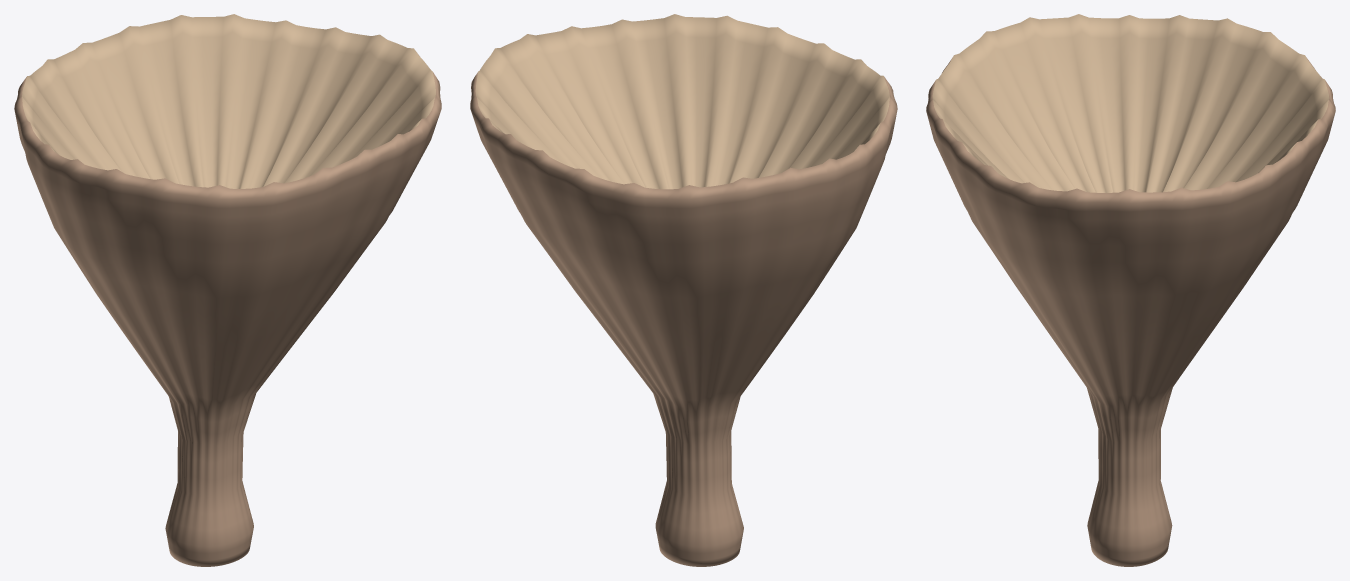
File: montlivaltia.glb
3 renders of one model, left to right at view 1: azimuth 30°, elevation 25°; view 2: azimuth 150°, elevation 25°; view 3: azimuth 270°, elevation 25°, orthographic. The views are drawn at different scales.
Visible parts, largest first — view 1: continuous-pedicel-flared-cup-and-radial-septa; view 2: continuous-pedicel-flared-cup-and-radial-septa; view 3: continuous-pedicel-flared-cup-and-radial-septa.
Boxes of the visible parts, <box> form: continuous-pedicel-flared-cup-and-radial-septa: <box>14,14,441,566</box>; continuous-pedicel-flared-cup-and-radial-septa: <box>470,14,897,566</box>; continuous-pedicel-flared-cup-and-radial-septa: <box>926,14,1335,566</box>.
Bounding box in the file's own units: 0.1066 × 0.122 × 0.0981.
